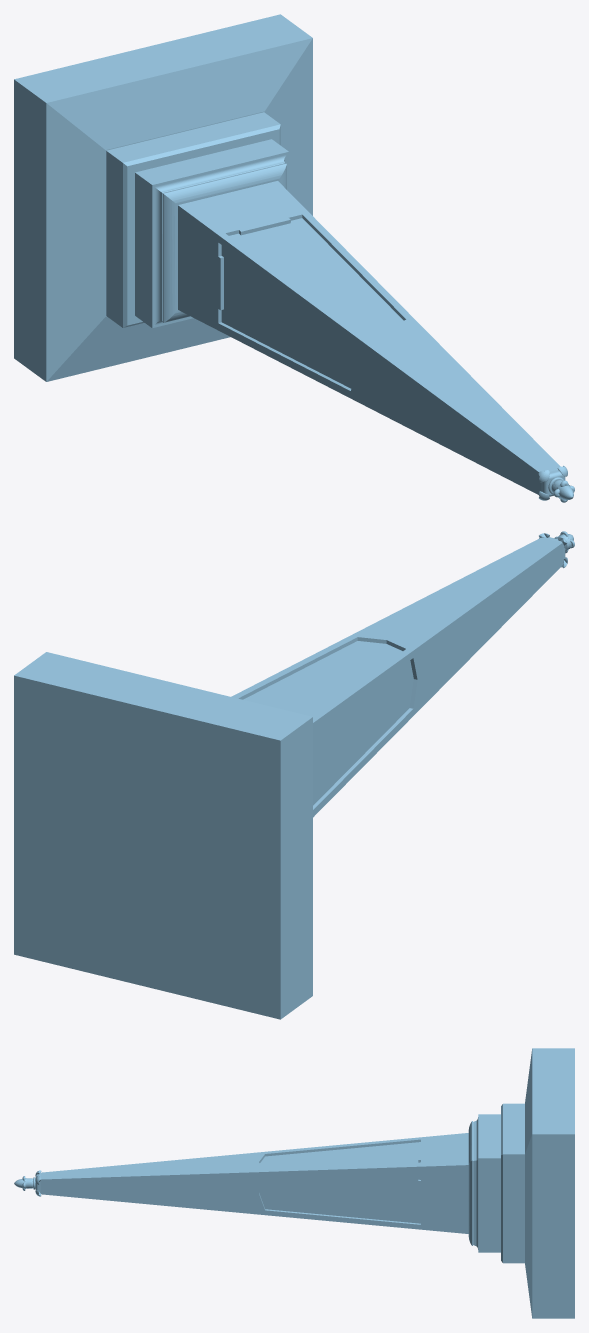
Rendered from smallob.obj.
The picture shows the model from 3 angles, top to bottom: view 1: azimuth 30°, elevation 25°; view 2: azimuth 150°, elevation 25°; view 3: azimuth 270°, elevation 25°; orthographic projection. The views are drawn at different scales.
Parts seen in each view (by area): view 1: mesh99; view 2: mesh99; view 3: mesh99.
Part boxes in pixels (<box>): mesh99: <box>14,14,574,502</box>; mesh99: <box>14,531,574,1019</box>; mesh99: <box>14,1048,574,1318</box>.
Bounding box in the file's own units: 1.93 × 1.93 × 5.33.
